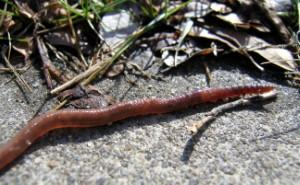earthworms: (1, 65, 289, 179)
